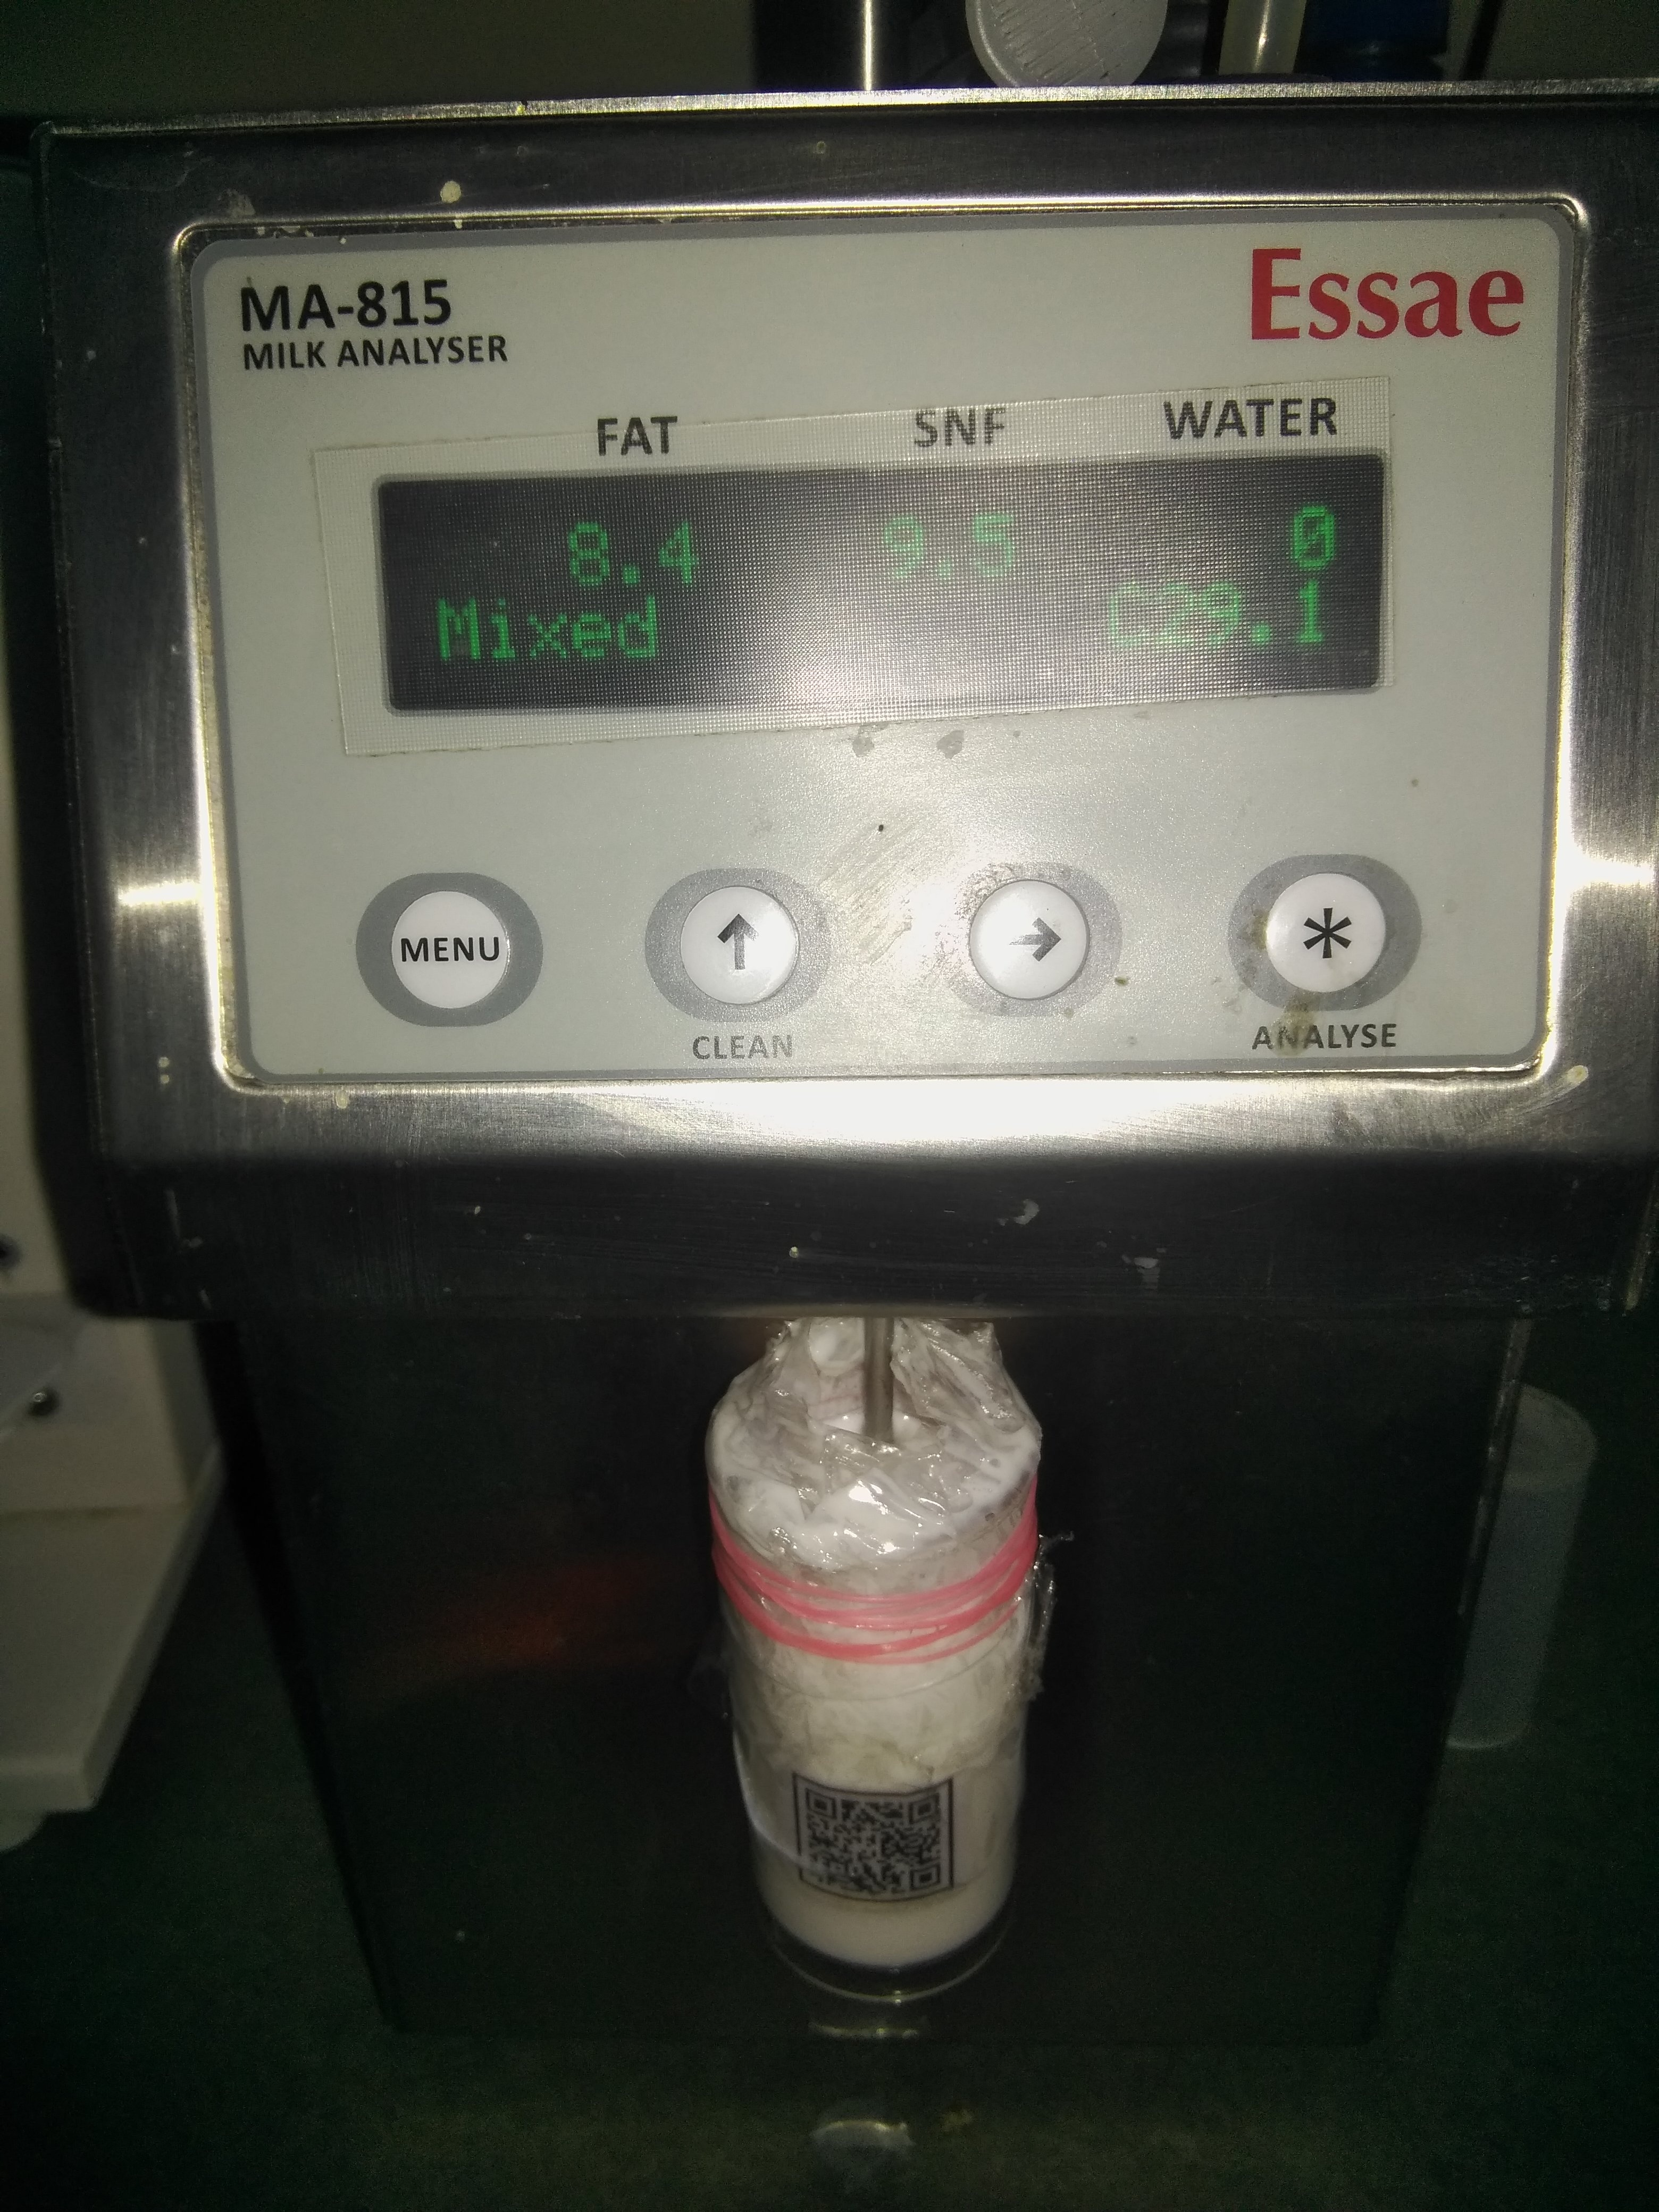lcd: (362, 439, 1417, 747)
qr: (795, 1761, 983, 1911)
